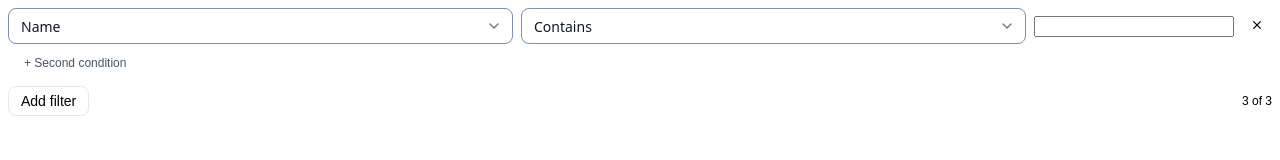
Test: DataFilter › switching property resets operator to the type default
Select "Age" in the dropdown named "Condition 1 property": (260, 26) [8,8,513,44]
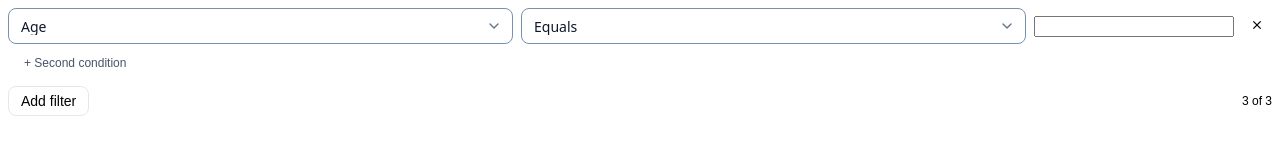
Check: the dropdown named "Condition 1 operator" shows "Equals", box [521,8,1026,44]
